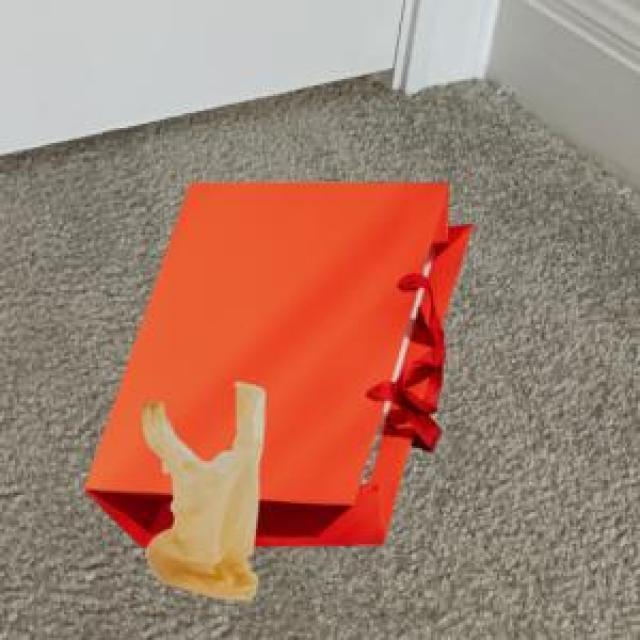paper: (81, 179, 469, 544)
